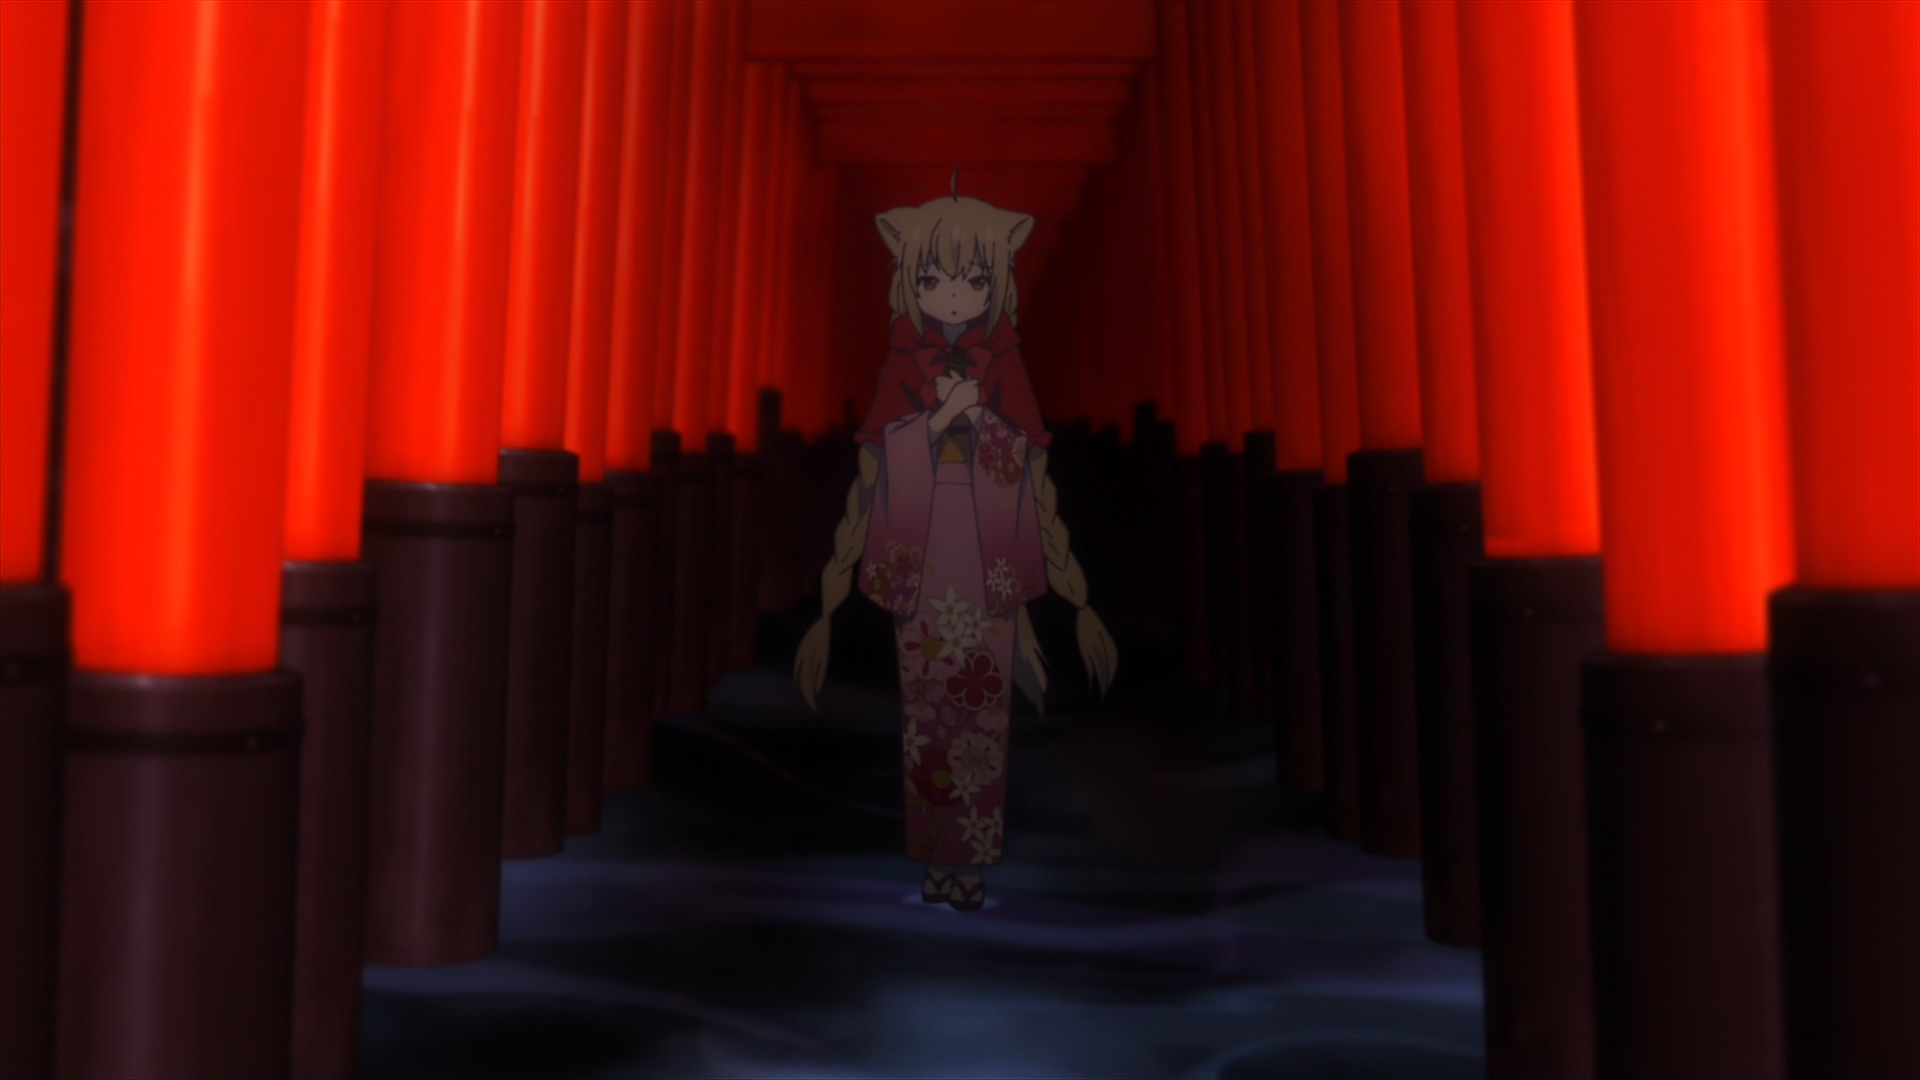柚: (793, 165, 1120, 919)
